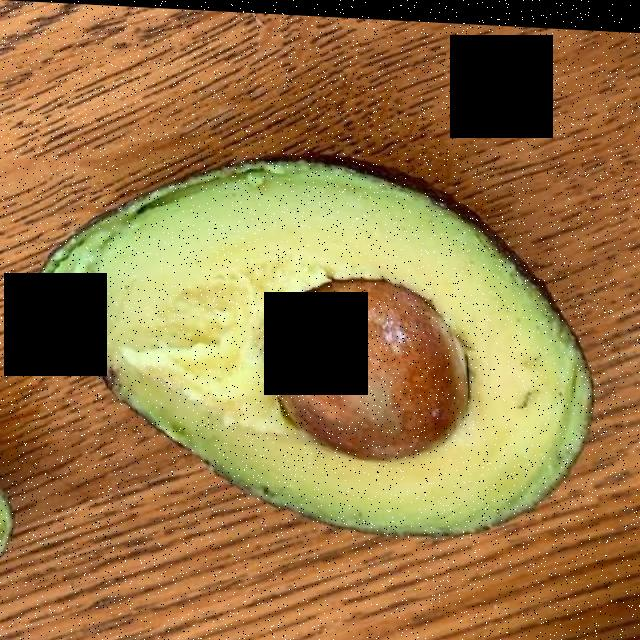avocado: (46, 160, 586, 528)
